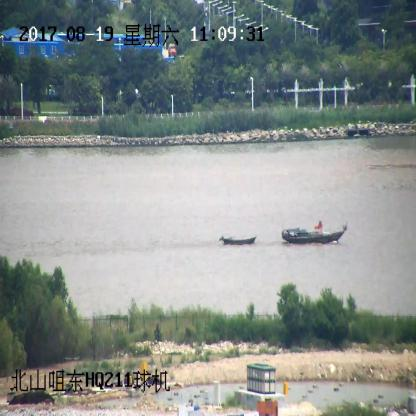Fishing Boat: (282, 223, 349, 245), (219, 235, 256, 246)
